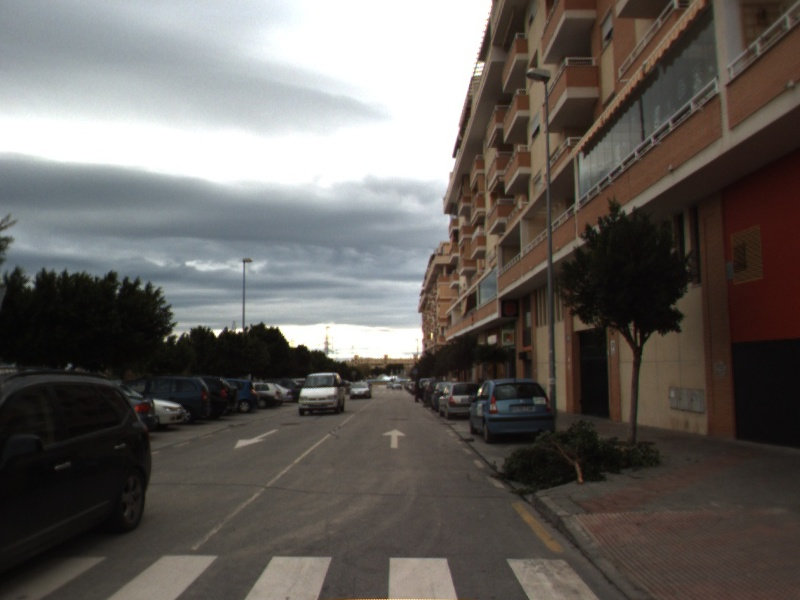STRAIGHT: (380, 425, 409, 450)
